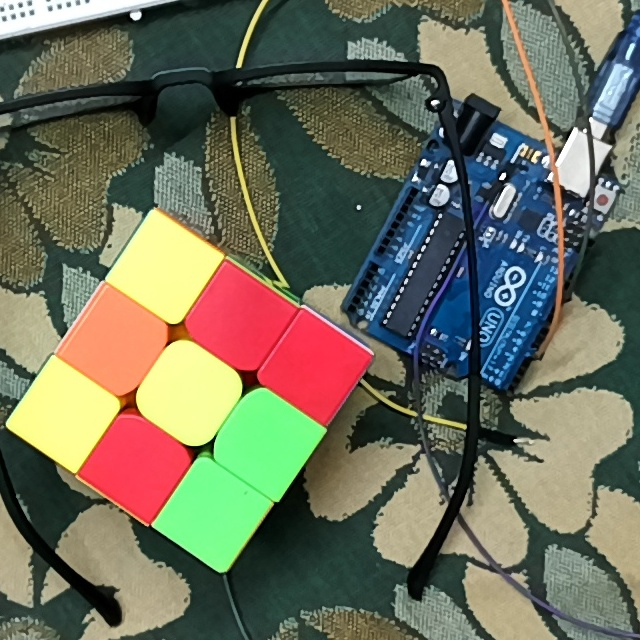tile: (84, 312, 147, 372), (234, 410, 297, 470), (182, 483, 245, 542), (209, 286, 267, 349), (285, 336, 345, 396), (161, 361, 220, 422), (109, 437, 169, 493), (35, 388, 91, 445), (135, 240, 193, 294)
